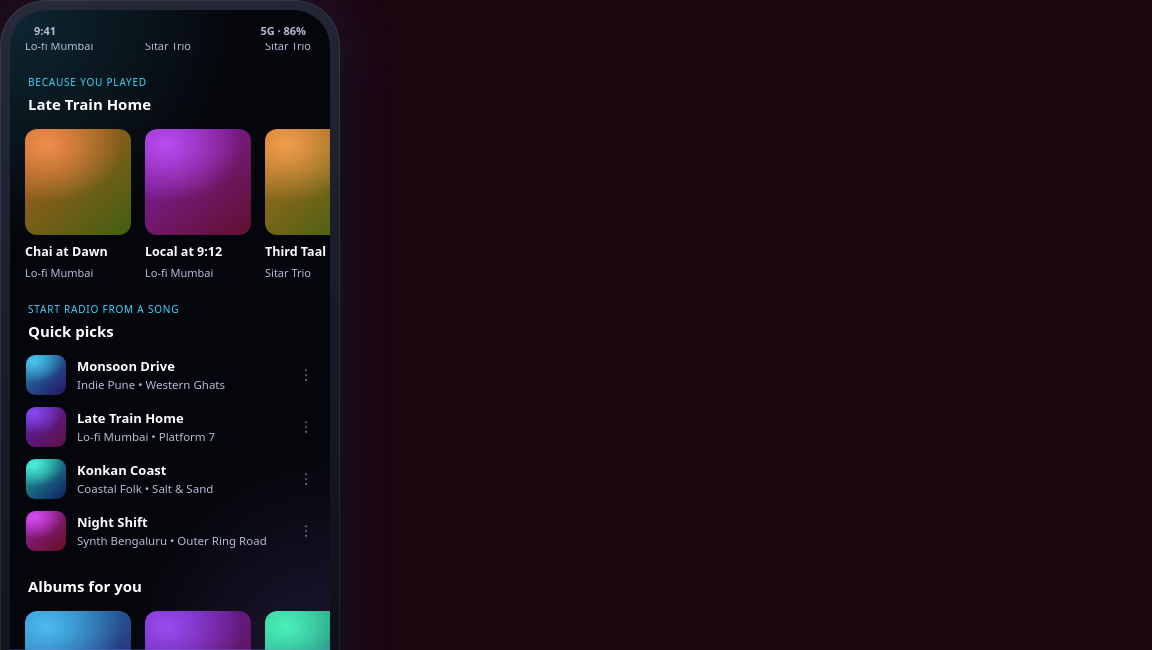
Swar demo › queues a song next from its menu
This screenshot has width=1152, height=650.
Later steps or results of the test are not shown.
(page scrolled)
Click the button with aria-label "Play Monsoon Drive by Indie Pune".
click(149, 375)  # box [10,349,288,401]
(page scrolled)
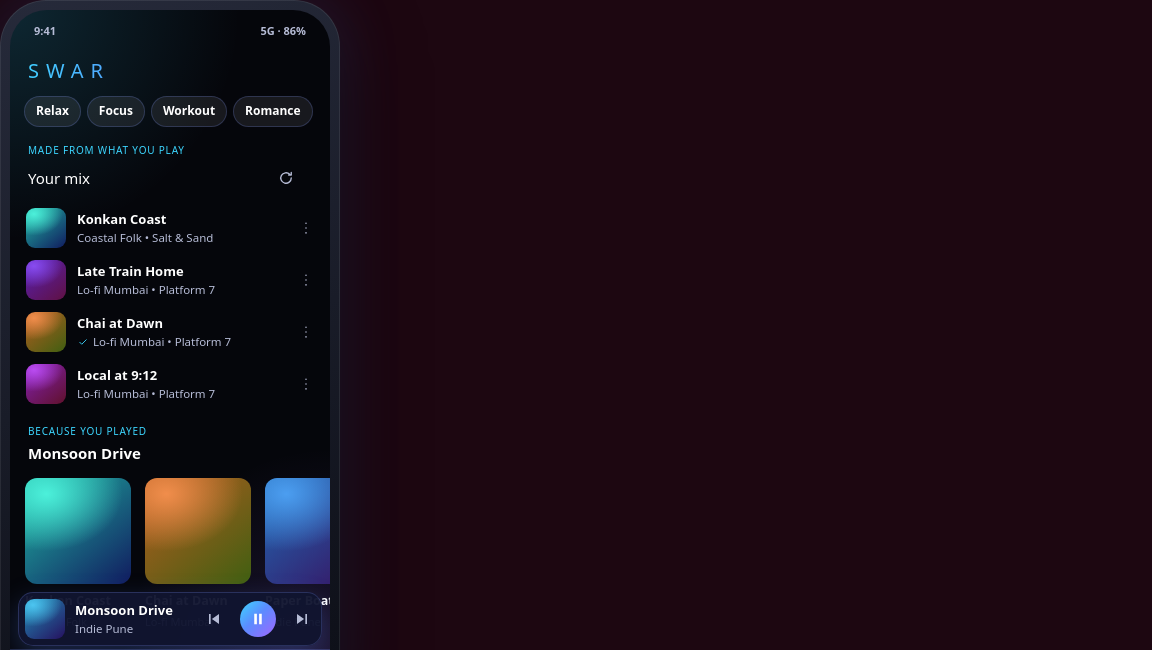
Click the button named "More for Konkan Coast".
click(306, 228)  # box [288,210,324,246]
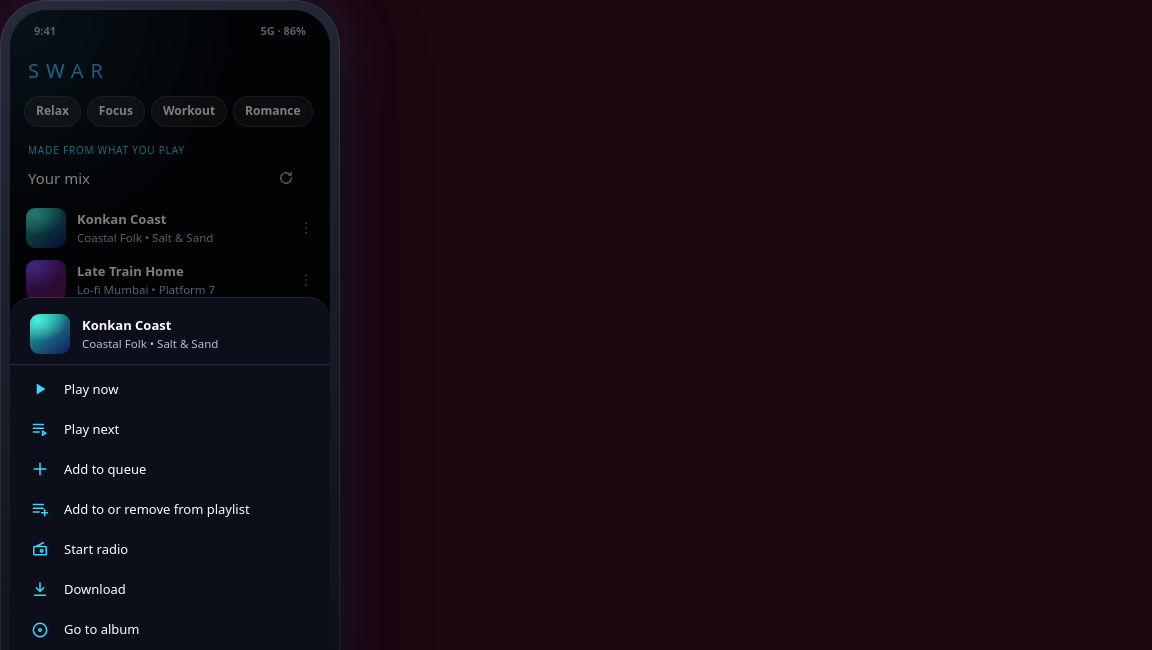
Click the button "Play next".
click(92, 429)  # box [10,409,330,449]
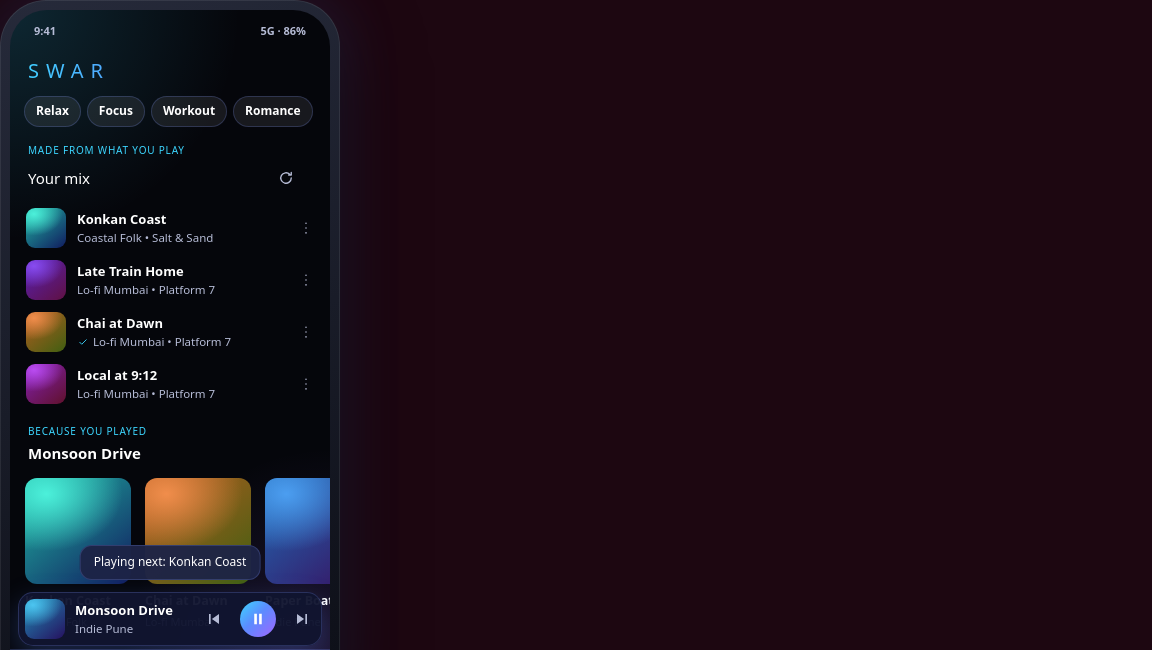
Now the message reads "Playing next: Konkan Coast", box [94,553,246,570]
